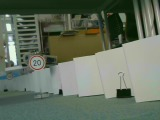speed_20: (27, 54, 47, 72)
